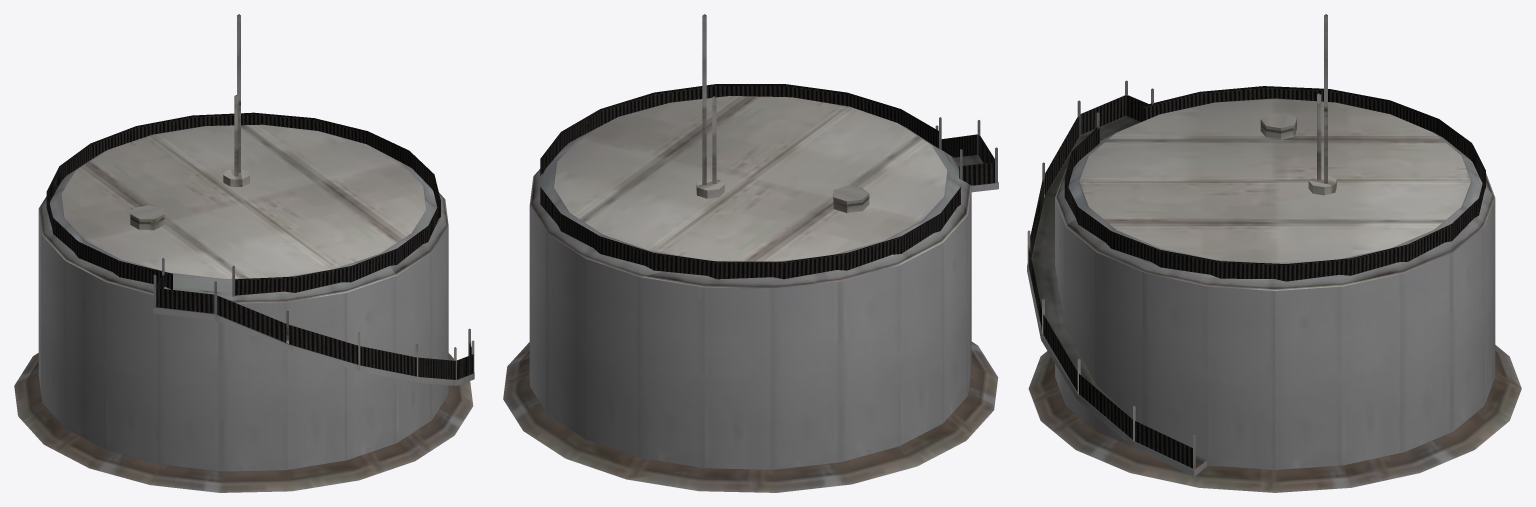
File: ind-tank.lod1.glb
3 renders of one model, left to right at view 1: azimuth 30°, elevation 25°; view 2: azimuth 150°, elevation 25°; view 3: azimuth 270°, elevation 25°, orthographic. The views are drawn at different scales.
Parts seen in each view (by area): view 1: Industrial_Tank_1_Industrial_Walls_FLR_1_0, Industrial_Tank_1_Industrial_Maskedstuff_1_0; view 2: Industrial_Tank_1_Industrial_Walls_FLR_1_0, Industrial_Tank_1_Industrial_Maskedstuff_1_0; view 3: Industrial_Tank_1_Industrial_Walls_FLR_1_0, Industrial_Tank_1_Industrial_Maskedstuff_1_0.
Boxes of the visible parts, <box> form: Industrial_Tank_1_Industrial_Walls_FLR_1_0: <box>14,14,474,492</box>; Industrial_Tank_1_Industrial_Maskedstuff_1_0: <box>46,112,473,379</box>; Industrial_Tank_1_Industrial_Walls_FLR_1_0: <box>503,14,998,492</box>; Industrial_Tank_1_Industrial_Maskedstuff_1_0: <box>540,84,994,279</box>; Industrial_Tank_1_Industrial_Walls_FLR_1_0: <box>1027,14,1521,492</box>; Industrial_Tank_1_Industrial_Maskedstuff_1_0: <box>1028,86,1485,468</box>.
Bounding box in the file's own units: 17.74 × 15.22 × 17.79.
Materials: 2 (2 with a texture image).
